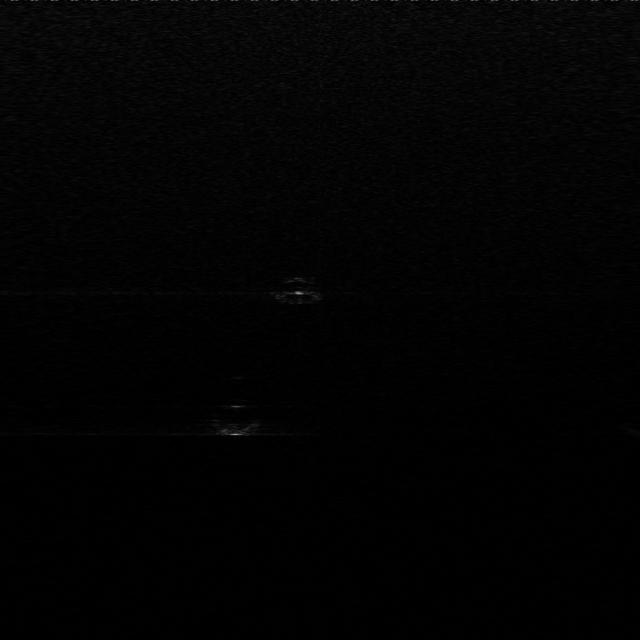ball: (203, 392, 268, 439)
tyre: (270, 272, 330, 307)
